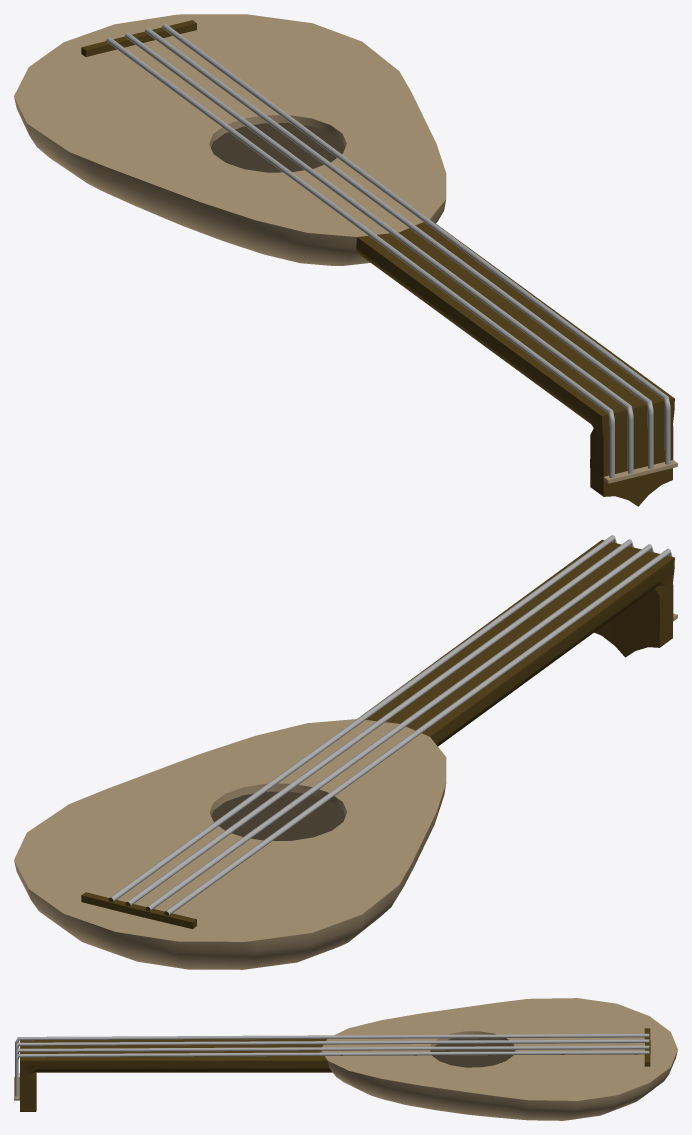
Rendered from lute.fbx.
The picture shows the model from 3 angles, top to bottom: view 1: azimuth 30°, elevation 25°; view 2: azimuth 150°, elevation 25°; view 3: azimuth 270°, elevation 25°; orthographic projection. The views are drawn at different scales.
Parts seen in each view (by area): view 1: pCylinder6; view 2: pCylinder6; view 3: pCylinder6.
Part boxes in pixels (x1,y1,x2,y2): pCylinder6: [14, 14, 677, 506]; pCylinder6: [14, 535, 677, 969]; pCylinder6: [14, 998, 677, 1120].
Bounding box in the file's own units: 0.4597 × 0.1443 × 1.25.
